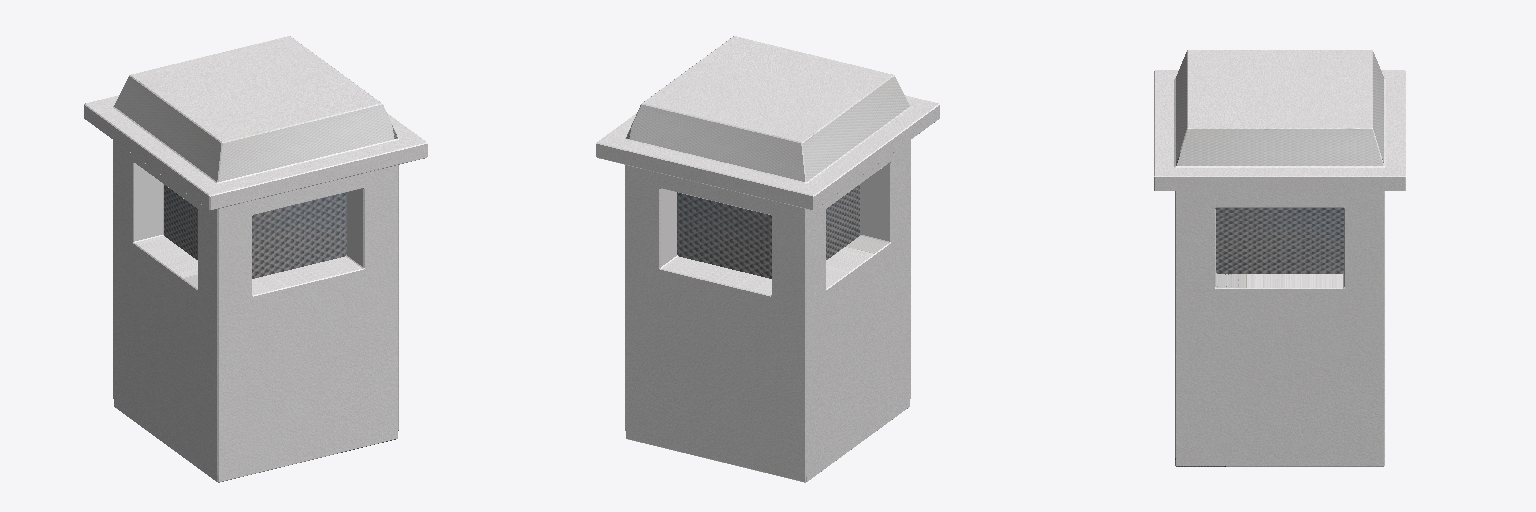
3 renders of one model, left to right at view 1: azimuth 30°, elevation 25°; view 2: azimuth 150°, elevation 25°; view 3: azimuth 270°, elevation 25°, orthographic.
Visible parts, largest first — view 1: chimney_2; view 2: chimney_2; view 3: chimney_2.
Boxes of the visible parts, <box> form: chimney_2: <box>84,36,427,482</box>; chimney_2: <box>596,36,939,482</box>; chimney_2: <box>1154,50,1405,466</box>.
Size of the model in its own units: 0.8757 by 1.28 by 0.8757.
1 materials, 1 textured.